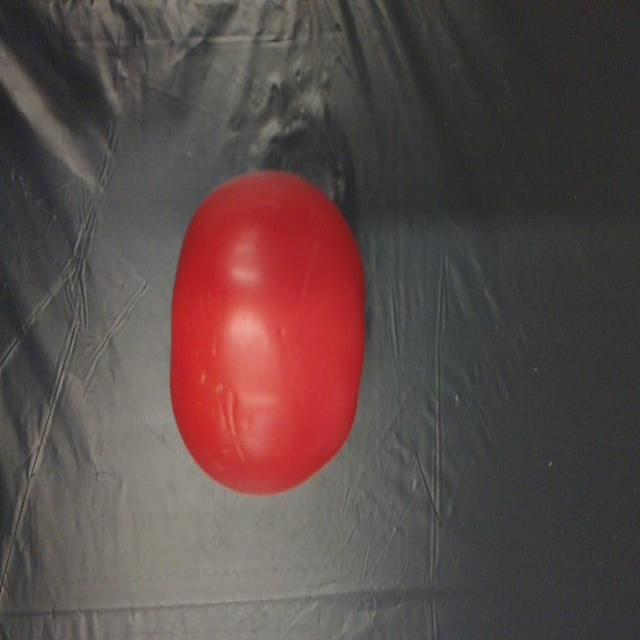kirmizi: (166, 166, 366, 512)
